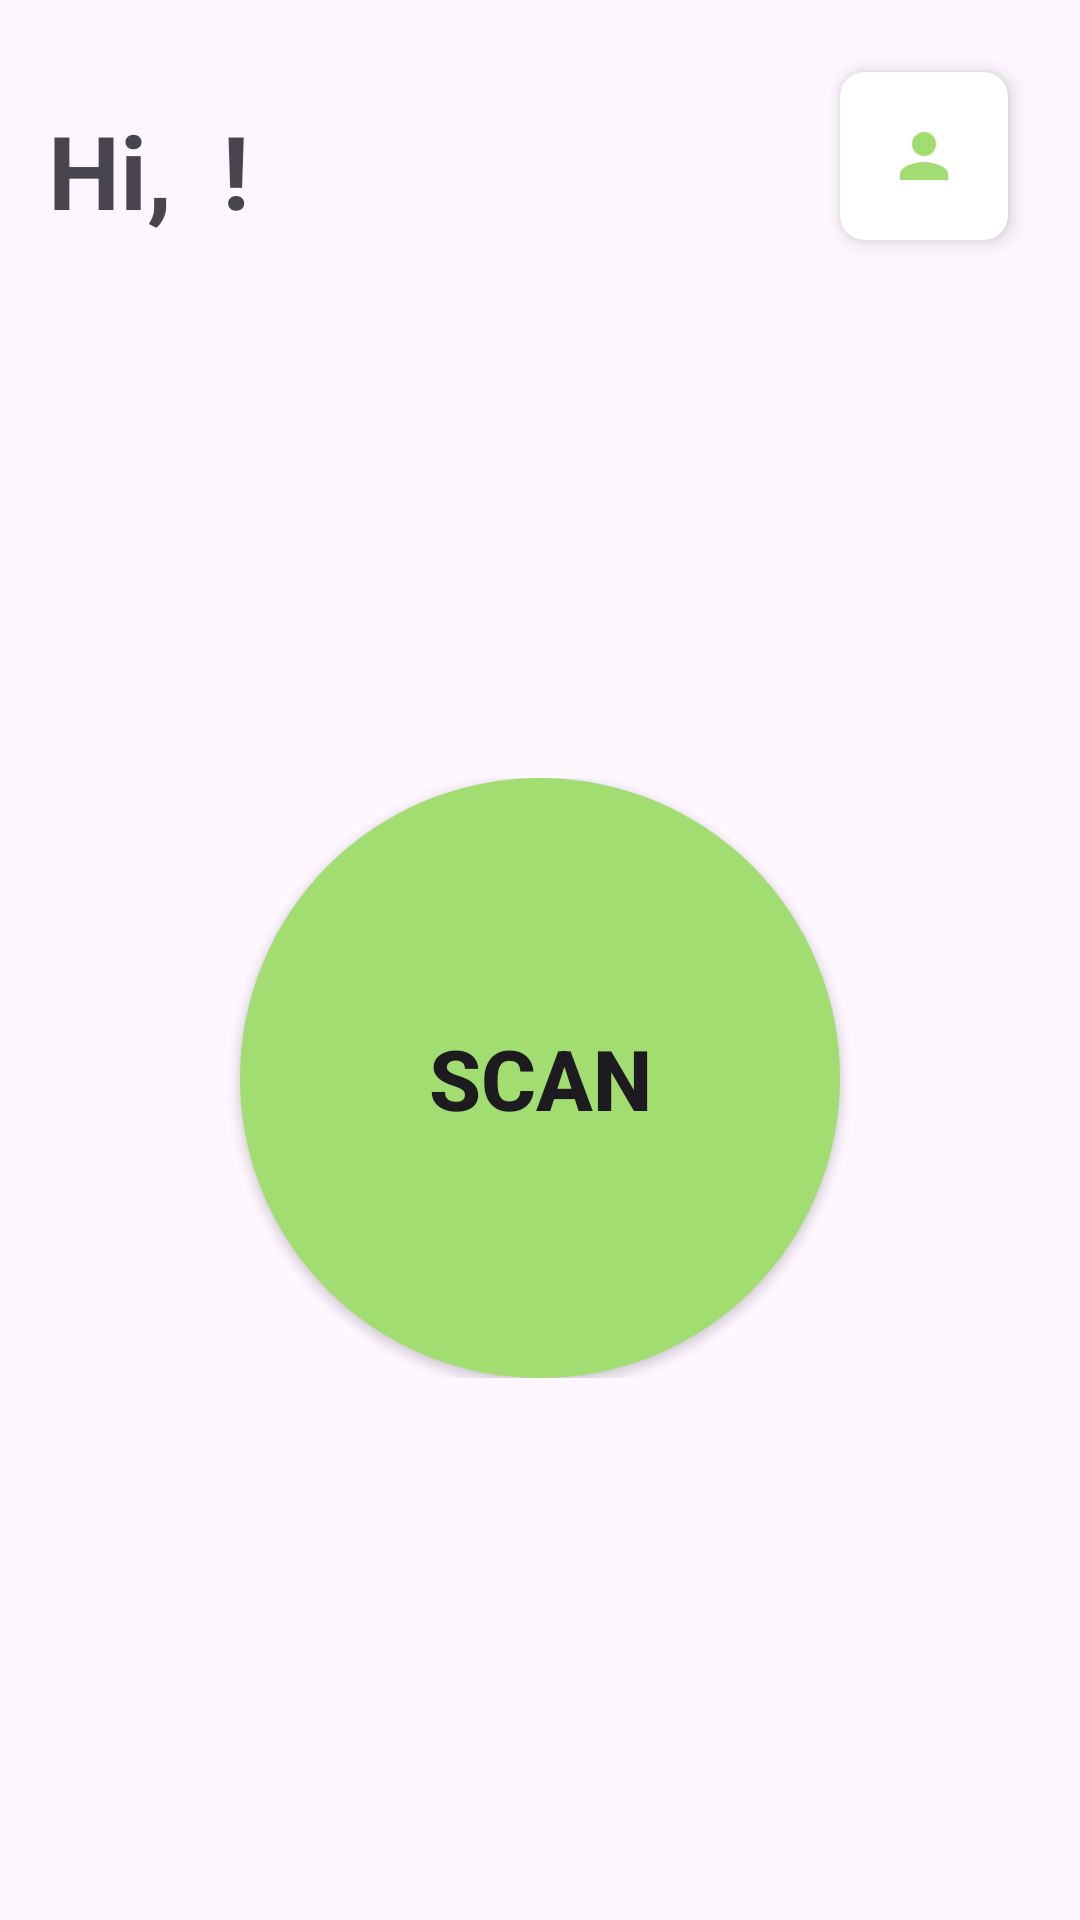

Where to tap for icons on this 1080x1920 app screen, as (x,y):
Profile: (924,156)
